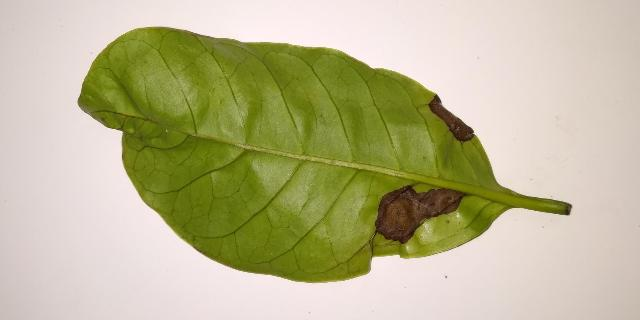rust: (375, 186, 466, 244), (428, 94, 475, 141)
